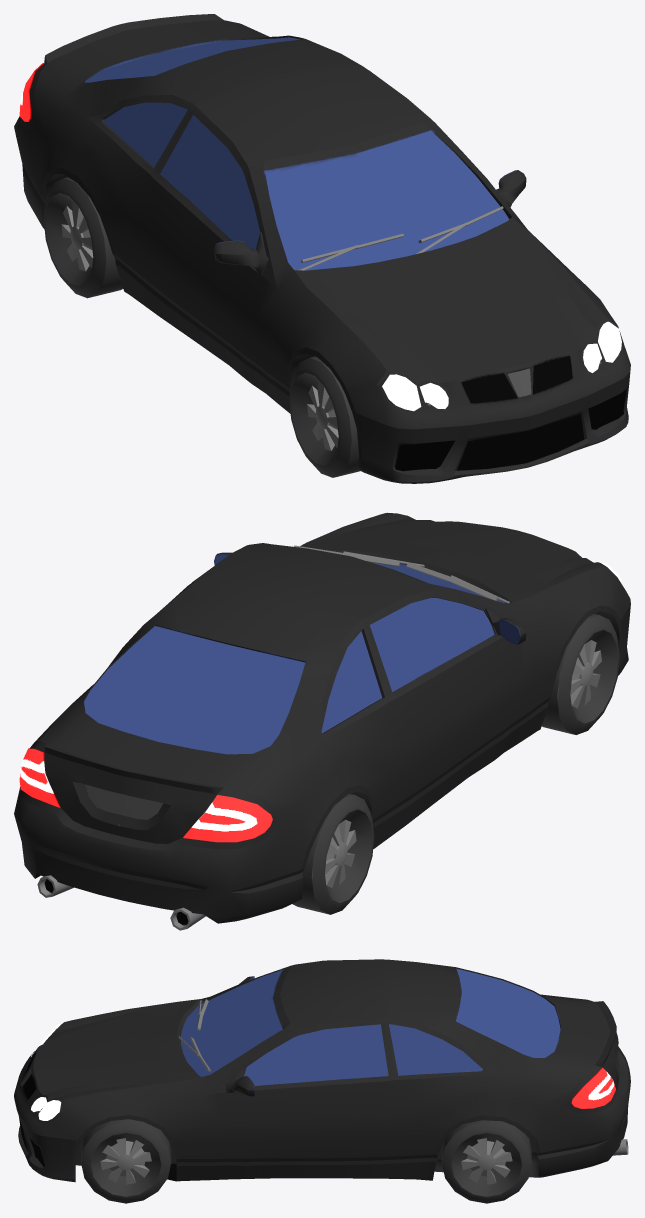
File: MerkyWithTyres.fbx
The picture shows the model from 3 angles, top to bottom: view 1: azimuth 30°, elevation 25°; view 2: azimuth 150°, elevation 25°; view 3: azimuth 270°, elevation 25°; orthographic projection. The views are drawn at different scales.
Parts seen in each view (by area): view 1: Merky, MerkWheel-BR, MerkWheel-FR; view 2: Merky, MerkWheel-BR, MerkWheel-FR; view 3: Merky, MerkWheel-FL, MerkWheel-BL.
Part boxes in pixels (bbox=[...]): Merky: bbox=[14, 14, 630, 483]; MerkWheel-BR: bbox=[43, 177, 123, 298]; MerkWheel-FR: bbox=[289, 356, 360, 477]; Merky: bbox=[14, 512, 630, 930]; MerkWheel-BR: bbox=[292, 794, 374, 914]; MerkWheel-FR: bbox=[542, 614, 619, 734]; Merky: bbox=[14, 959, 630, 1182]; MerkWheel-FL: bbox=[81, 1119, 171, 1203]; MerkWheel-BL: bbox=[441, 1120, 531, 1203].
Size of the model in its own units: 206 by 149 by 483.
